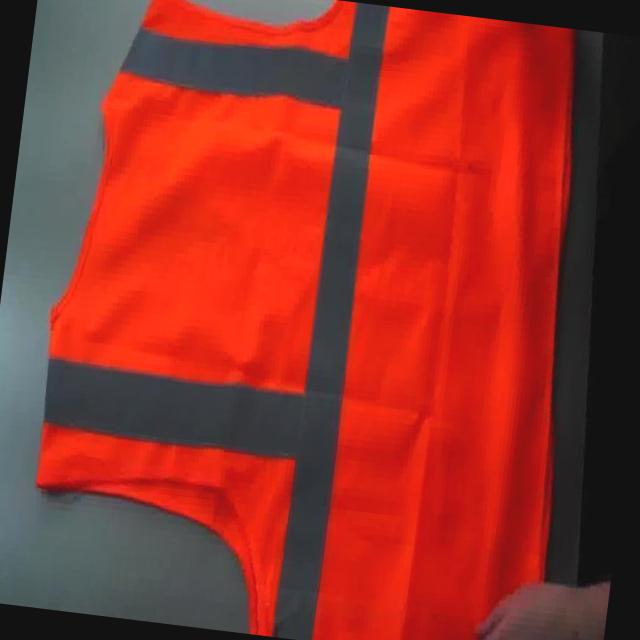vest: (11, 0, 613, 640)
